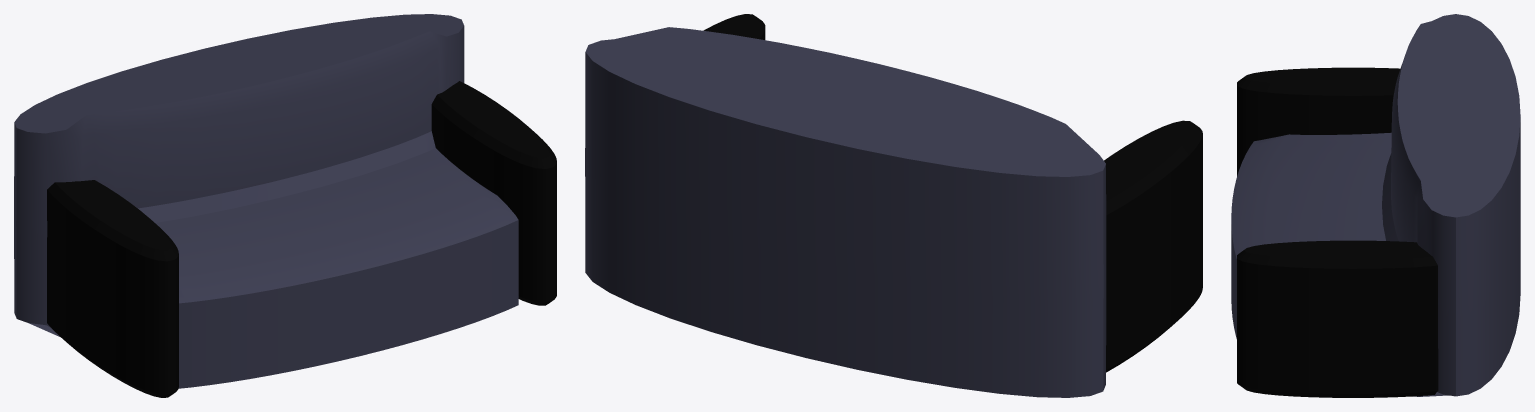
3 views of the same model, side by side, from view 1: azimuth 30°, elevation 25°; view 2: azimuth 150°, elevation 25°; view 3: azimuth 270°, elevation 25° (orthographic). The views are drawn at different scales.
Parts seen in each view (by area): view 1: Cylinder.002, Cylinder.001, Cylinder; view 2: Cylinder.002, Cylinder.001, Cylinder; view 3: Cylinder.002, Cylinder, Cylinder.001.
Boxes of the visible parts, x1,y1,x2,y2 form: Cylinder.002: (14,14,518,388); Cylinder.001: (47,180,178,397); Cylinder: (431,81,556,305); Cylinder.002: (585,27,1106,397); Cylinder.001: (1104,120,1202,372); Cylinder: (703,14,765,39); Cylinder.002: (1231,14,1520,396); Cylinder: (1237,240,1438,397); Cylinder.001: (1237,67,1400,176).
Size of the model in its own units: 2.5 by 1.2 by 1.5.
